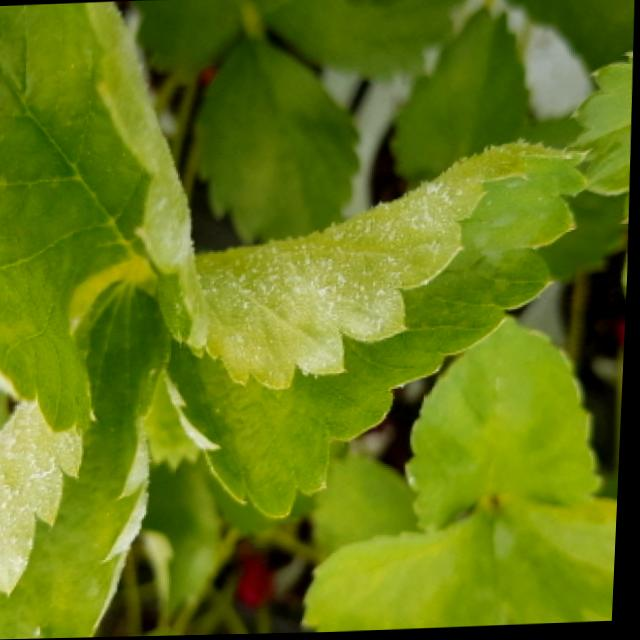Powdery Mildew Leaf: (166, 143, 593, 520), (0, 2, 211, 438), (0, 288, 176, 640)
